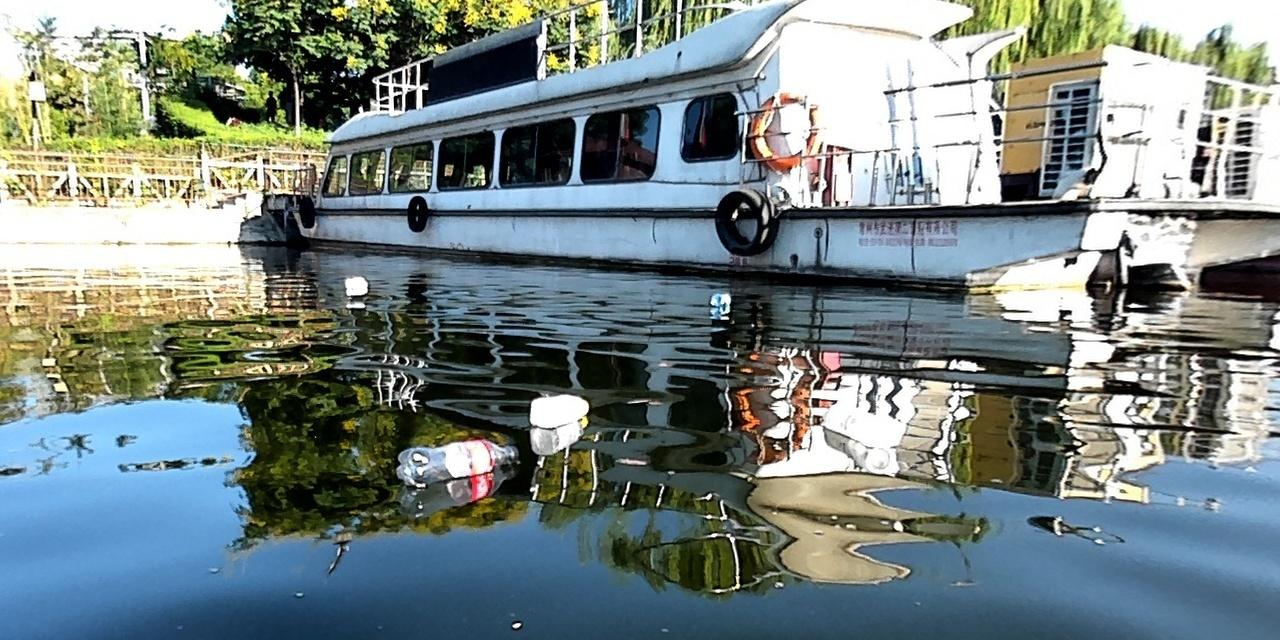bottle: (386, 435, 520, 484), (525, 388, 590, 425), (706, 288, 732, 306)
